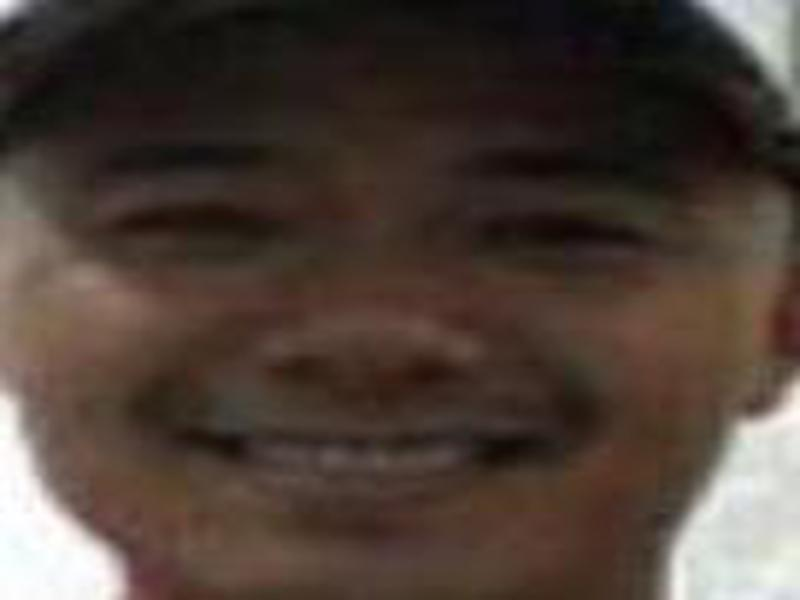without_mask: (4, 84, 780, 593)
